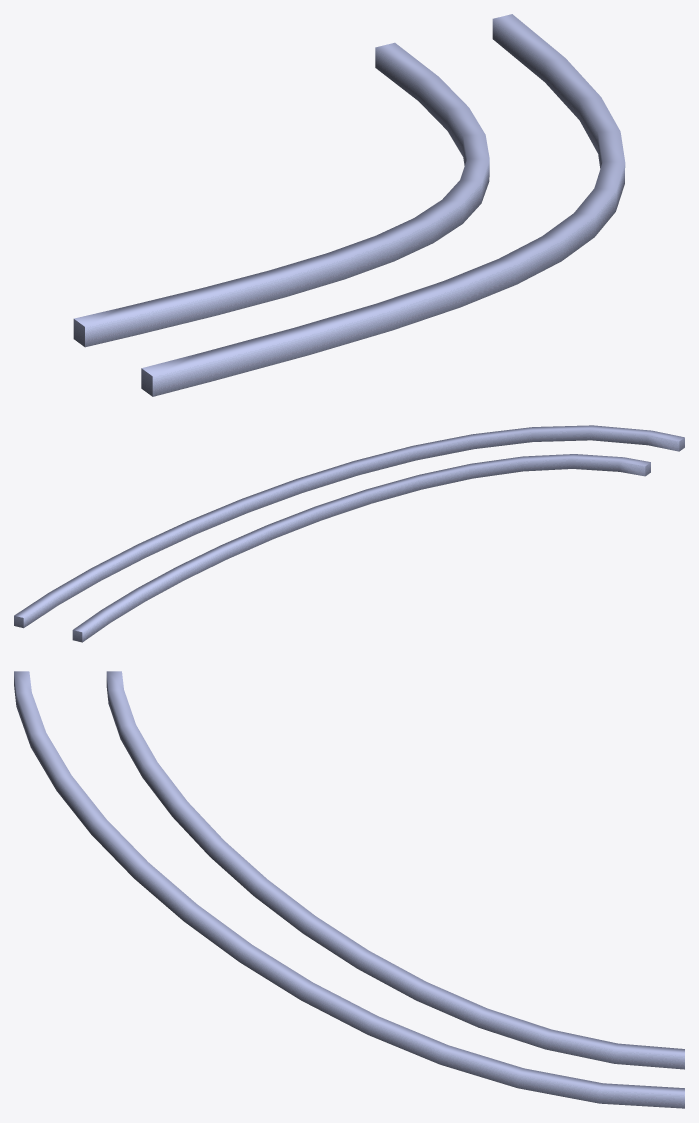
The model's file is railroad-rail-corner-large-ramp_lev2.glb.
The picture shows the model from 3 angles, top to bottom: view 1: azimuth 30°, elevation 25°; view 2: azimuth 150°, elevation 25°; view 3: azimuth 270°, elevation 25°; orthographic projection. The views are drawn at different scales.
Parts seen in each view (by area): view 1: railroad-rail-corner-large-ramp_lev2; view 2: railroad-rail-corner-large-ramp_lev2; view 3: railroad-rail-corner-large-ramp_lev2.
Boxes of the visible parts, box(x1,y1,x2,y2) form: railroad-rail-corner-large-ramp_lev2: box(73, 14, 625, 396); railroad-rail-corner-large-ramp_lev2: box(14, 425, 684, 642); railroad-rail-corner-large-ramp_lev2: box(14, 671, 684, 1108).
Size of the model in its own units: 2.06 by 0.5207 by 2.06.
Materials: 1 (1 with a texture image).
